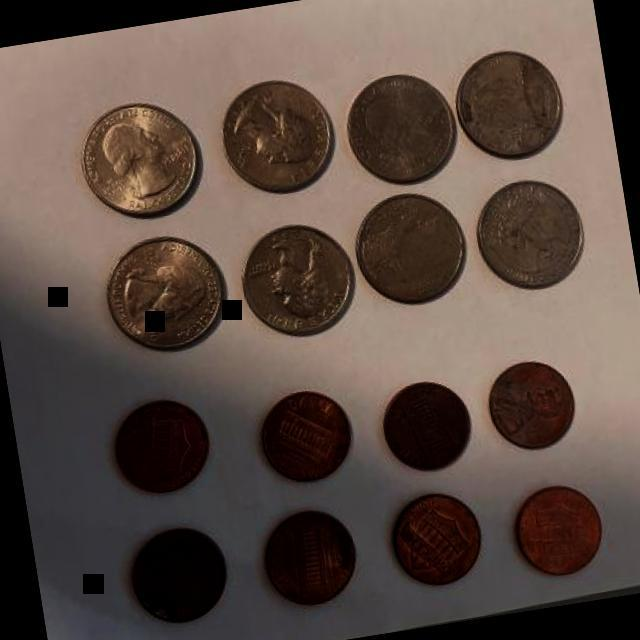Penny: (106, 390, 217, 500), (123, 520, 234, 630), (250, 380, 358, 488), (502, 477, 612, 583), (258, 502, 364, 609), (381, 486, 486, 592), (372, 374, 476, 481), (480, 352, 581, 456)
Quarter: (73, 90, 212, 226), (96, 227, 232, 361), (211, 66, 342, 205), (337, 63, 464, 196), (468, 168, 594, 298), (348, 182, 471, 312), (234, 214, 360, 340), (448, 39, 572, 166)
